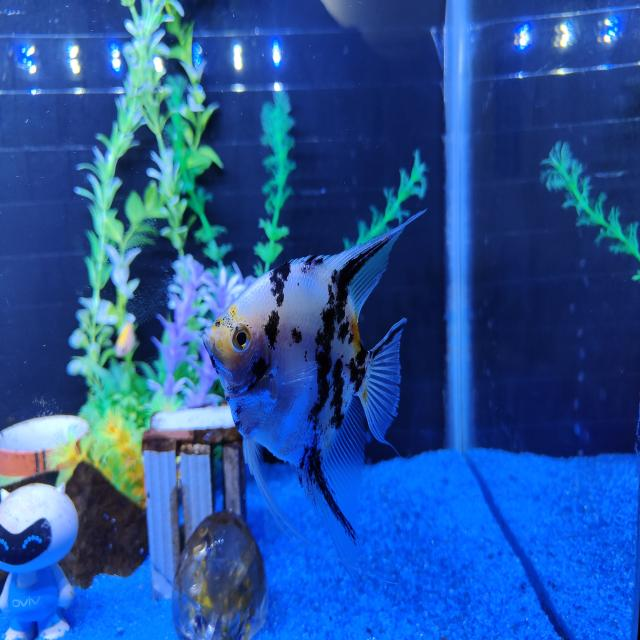Fish: (203, 212, 422, 576), (114, 322, 134, 357)
